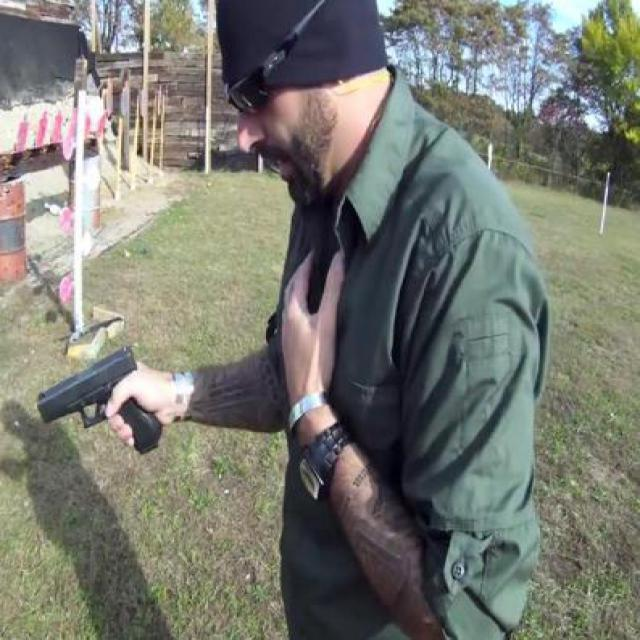weapon: (36, 346, 164, 455)
